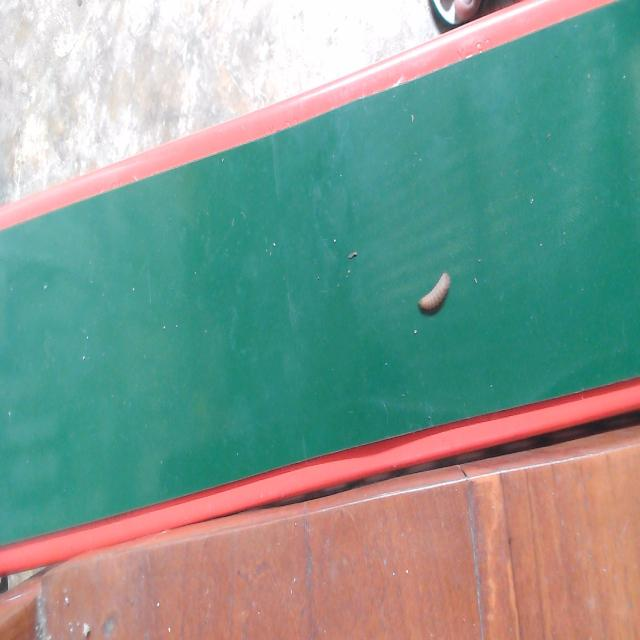Maggot: (417, 273, 452, 318)
